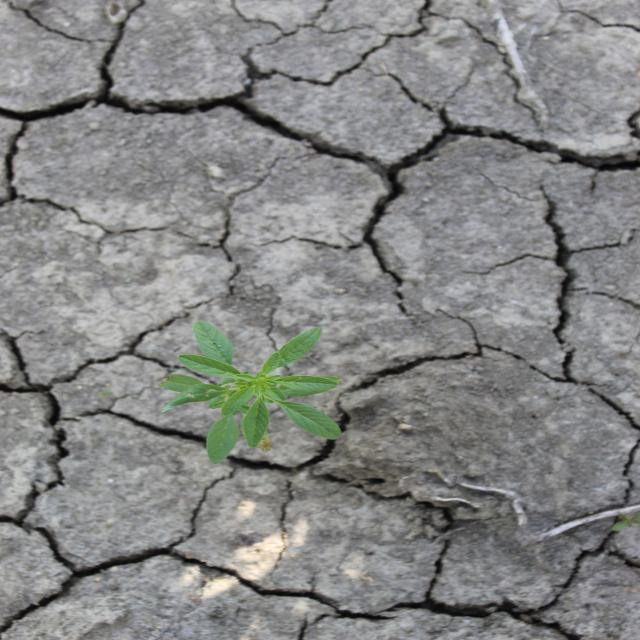Waterhemp: (154, 319, 346, 466)
